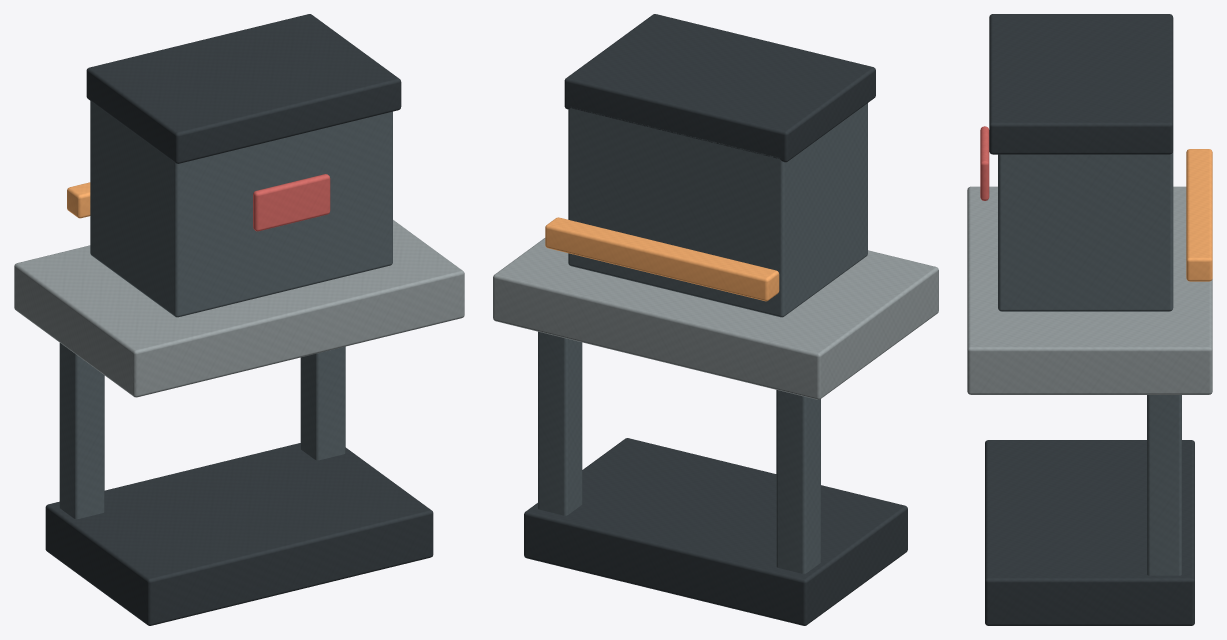
The model's file is MobileEvidenceCart.glb.
3 renders of one model, left to right at view 1: azimuth 30°, elevation 25°; view 2: azimuth 150°, elevation 25°; view 3: azimuth 270°, elevation 25°, orthographic.
Visible parts, largest first — view 1: MobileEvidenceCart_Mesh; view 2: MobileEvidenceCart_Mesh; view 3: MobileEvidenceCart_Mesh.
Boxes of the visible parts, bbox=[...] form: MobileEvidenceCart_Mesh: bbox=[14, 14, 464, 625]; MobileEvidenceCart_Mesh: bbox=[493, 14, 938, 625]; MobileEvidenceCart_Mesh: bbox=[967, 14, 1212, 625].
Size of the model in its own units: 0.88 by 1.23 by 0.56.
5 materials, 5 textured.
